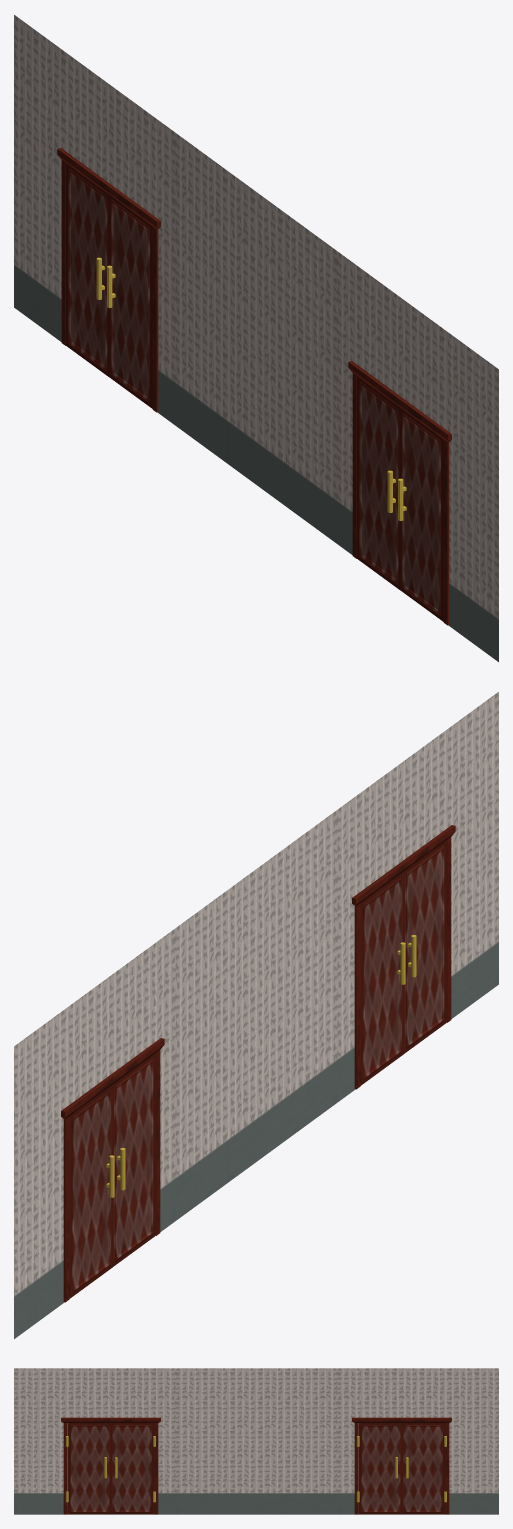
File: DoorWall.fbx
3 renders of one model, top to bottom at view 1: azimuth 30°, elevation 25°; view 2: azimuth 150°, elevation 25°; view 3: azimuth 270°, elevation 25°, orthographic. The views are drawn at different scales.
Parts seen in each view (by area): view 1: wall.001, wall.002, wall, LeftDoor.001, LeftDoor.002, RightDoor.002, RightDoor.001, DoorFrame.001, DoorFrame.002; view 2: wall.001, wall, wall.002, RightDoor.002, RightDoor.001, LeftDoor.001, LeftDoor.002, DoorFrame.001, DoorFrame.002; view 3: wall.001, wall, wall.002, LeftDoor.001, LeftDoor.002, RightDoor.001, RightDoor.002, DoorFrame.001, DoorFrame.002.
Part boxes in pixels (x1=…): wall.001: x1=175, y1=133, x2=337, y2=543; wall.002: x1=337, y1=251, x2=498, y2=661; wall: x1=14, y1=15, x2=175, y2=425; LeftDoor.001: x1=107, y1=195, x2=152, y2=408; LeftDoor.002: x1=398, y1=408, x2=443, y2=621; RightDoor.002: x1=357, y1=376, x2=400, y2=590; RightDoor.001: x1=66, y1=163, x2=109, y2=377; DoorFrame.001: x1=57, y1=148, x2=160, y2=412; DoorFrame.002: x1=348, y1=361, x2=451, y2=625; wall.001: x1=175, y1=810, x2=337, y2=1220; wall: x1=14, y1=928, x2=175, y2=1338; wall.002: x1=337, y1=692, x2=498, y2=1102; RightDoor.002: x1=360, y1=872, x2=405, y2=1085; RightDoor.001: x1=69, y1=1085, x2=114, y2=1298; LeftDoor.001: x1=113, y1=1053, x2=155, y2=1266; LeftDoor.002: x1=404, y1=840, x2=446, y2=1053; DoorFrame.001: x1=61, y1=1038, x2=164, y2=1302; DoorFrame.002: x1=352, y1=825, x2=455, y2=1089; wall.001: x1=175, y1=1368, x2=337, y2=1514; wall: x1=337, y1=1368, x2=498, y2=1514; wall.002: x1=14, y1=1368, x2=175, y2=1514; LeftDoor.001: x1=358, y1=1423, x2=402, y2=1514; LeftDoor.002: x1=67, y1=1423, x2=111, y2=1514; RightDoor.001: x1=402, y1=1423, x2=445, y2=1514; RightDoor.002: x1=111, y1=1423, x2=154, y2=1514; DoorFrame.001: x1=352, y1=1417, x2=451, y2=1514; DoorFrame.002: x1=61, y1=1417, x2=160, y2=1514.
Size of the model in its own units: 128 by 2000 by 6000.
17 materials, 17 textured.
